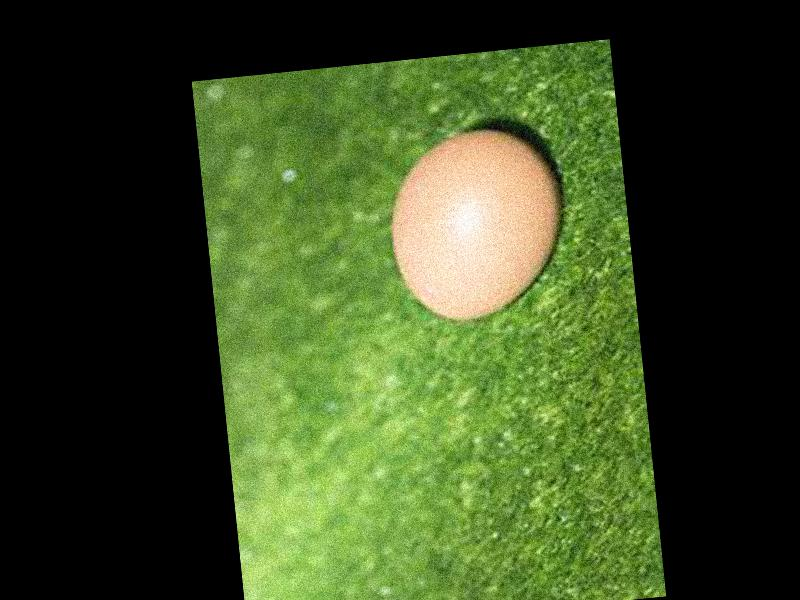Eggs: (384, 120, 573, 328)
